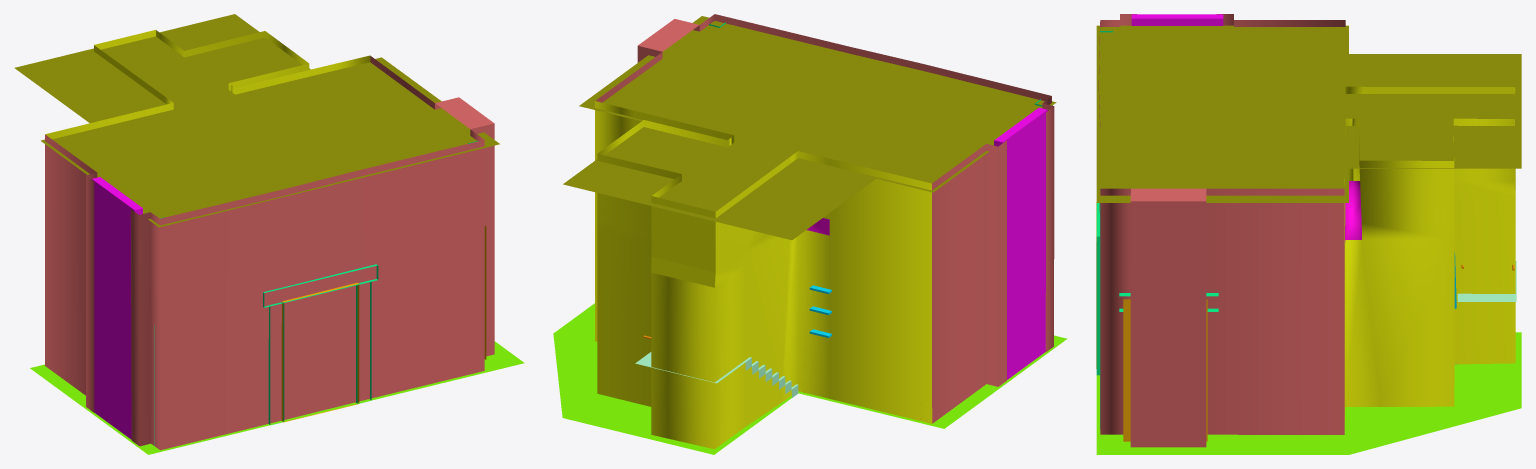
File: MainGuard_Reception.fbx
The picture shows the model from 3 angles, left to right: view 1: azimuth 30°, elevation 25°; view 2: azimuth 150°, elevation 25°; view 3: azimuth 270°, elevation 25°; orthographic projection. The views are drawn at different scales.
Parts seen in each view (by area): view 1: polySurface43; view 2: polySurface43; view 3: polySurface43.
Boxes of the visible parts, x1,y1,x2,y2 form: polySurface43: (14, 14, 524, 454); polySurface43: (553, 14, 1067, 454); polySurface43: (1096, 14, 1521, 454).
Bounding box in the file's own units: 10.2 × 6.36 × 9.38.
